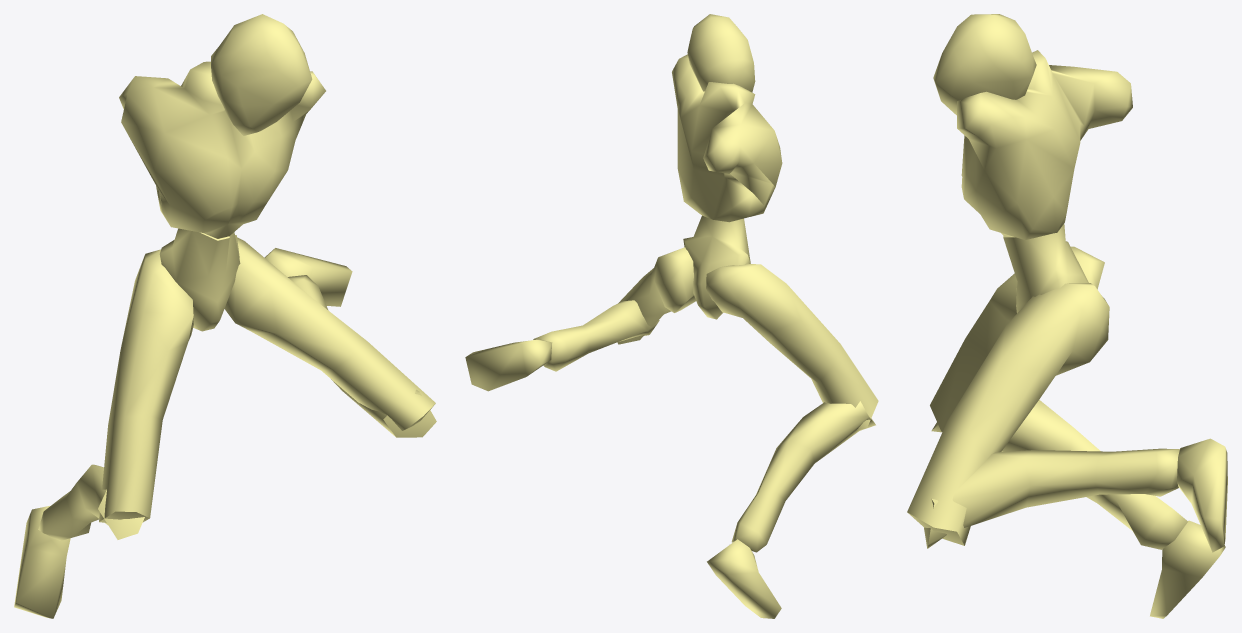
The model's file is filth9.obj.
The picture shows the model from 3 angles, left to right: view 1: azimuth 30°, elevation 25°; view 2: azimuth 150°, elevation 25°; view 3: azimuth 270°, elevation 25°; orthographic projection. The views are drawn at different scales.
Parts seen in each view (by area): view 1: Melee_Husk; view 2: Melee_Husk; view 3: Melee_Husk.
Boxes of the visible parts, x1,y1,x2,y2 form: Melee_Husk: (14, 14, 436, 618); Melee_Husk: (465, 14, 878, 618); Melee_Husk: (907, 14, 1227, 618).
Bounding box in the file's own units: 41.33 × 67.75 × 29.13.
